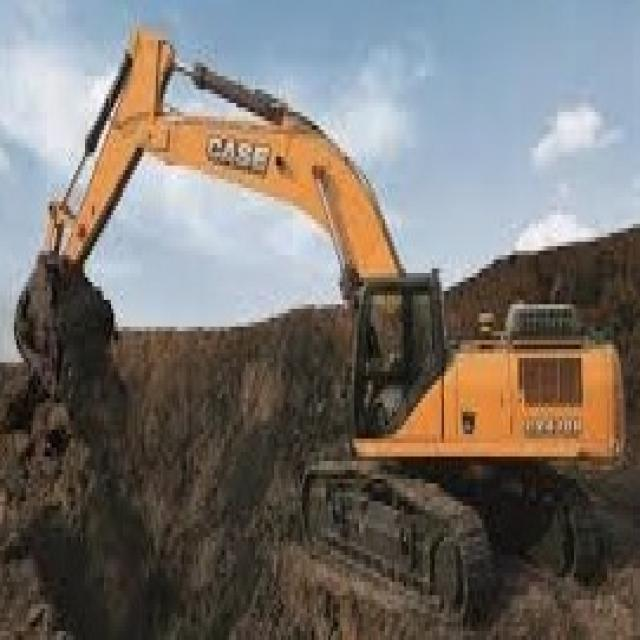excavator: (303, 260, 619, 509)
